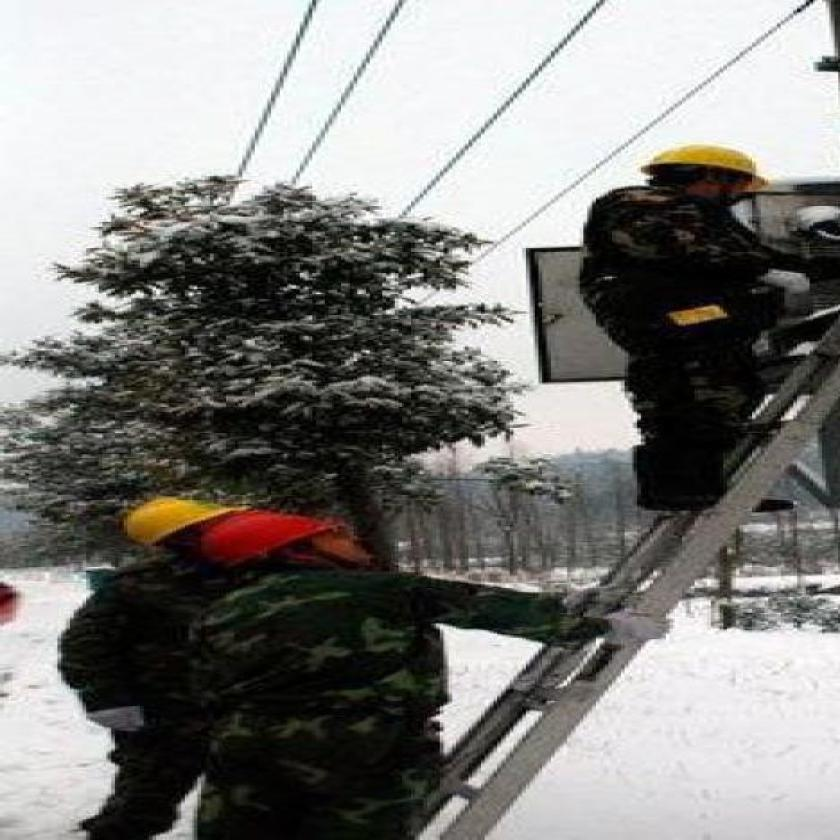Con_casco: (197, 507, 377, 585), (648, 137, 791, 211), (122, 492, 250, 562)
